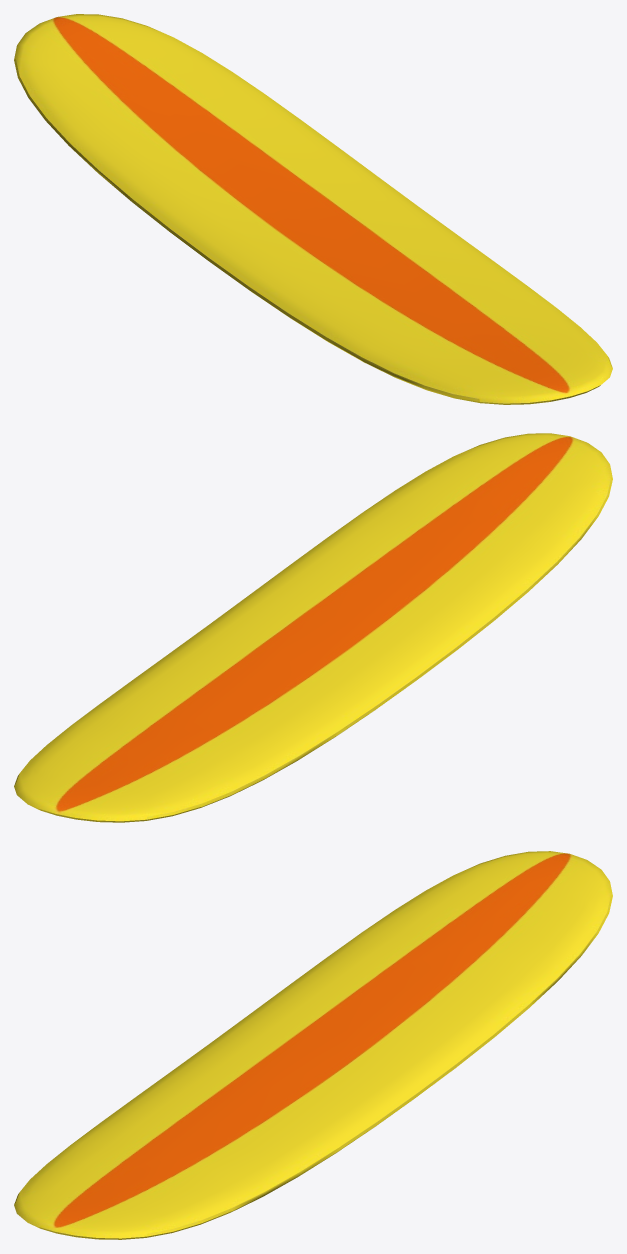
File: Board_Blue.fbx
3 renders of one model, top to bottom at view 1: azimuth 30°, elevation 25°; view 2: azimuth 150°, elevation 25°; view 3: azimuth 330°, elevation 25°, orthographic.
Visible parts, largest first — view 1: Yellow_SurfBoard; view 2: Yellow_SurfBoard; view 3: Yellow_SurfBoard.
Part boxes in pixels (bbox=[...]): Yellow_SurfBoard: bbox=[14, 14, 612, 404]; Yellow_SurfBoard: bbox=[14, 433, 612, 822]; Yellow_SurfBoard: bbox=[14, 851, 612, 1239].
Size of the model in its own units: 18.14 by 3.77 by 77.47.
Materials: 1 (1 with a texture image).
